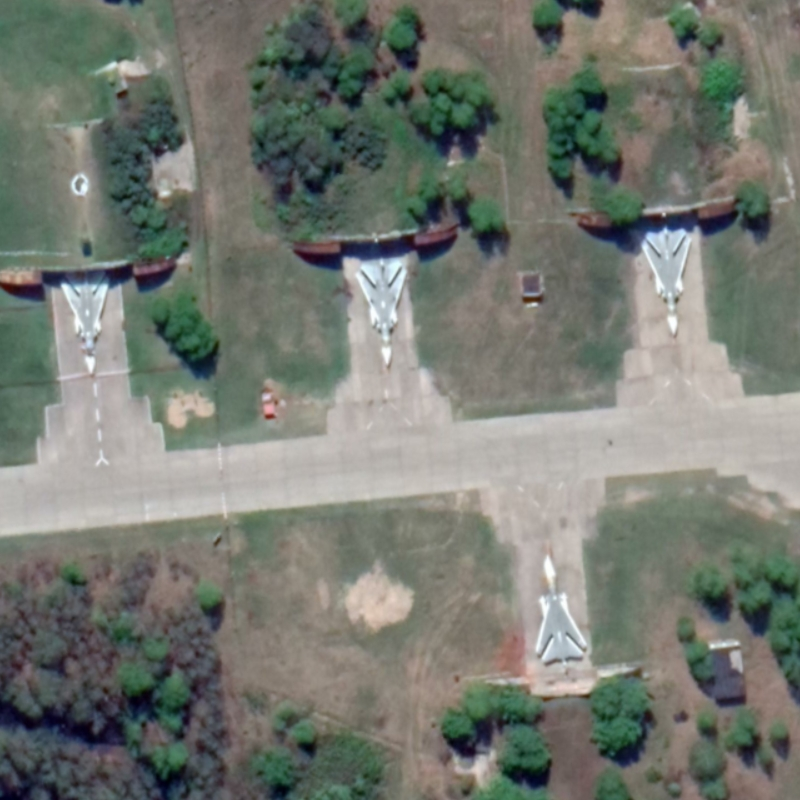A20: (533, 553, 590, 665), (639, 226, 693, 337), (354, 259, 408, 369), (58, 269, 112, 376)
